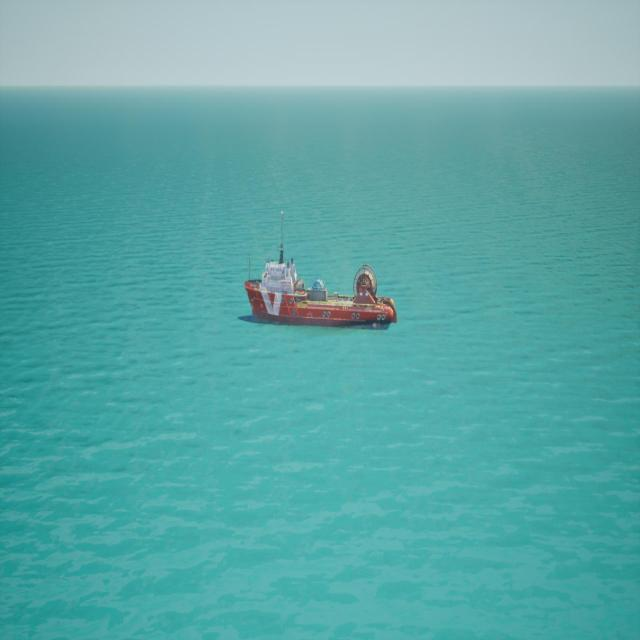tug boat: (241, 212, 399, 334)
